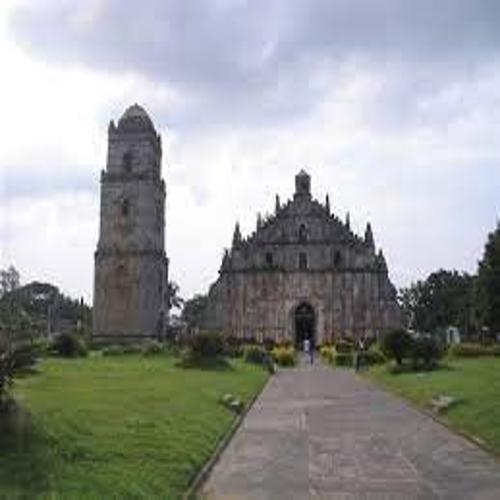Paoay Church: (85, 92, 423, 367)
